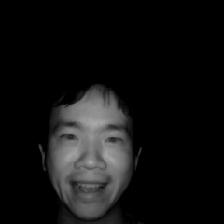happy: (21, 67, 148, 217)
